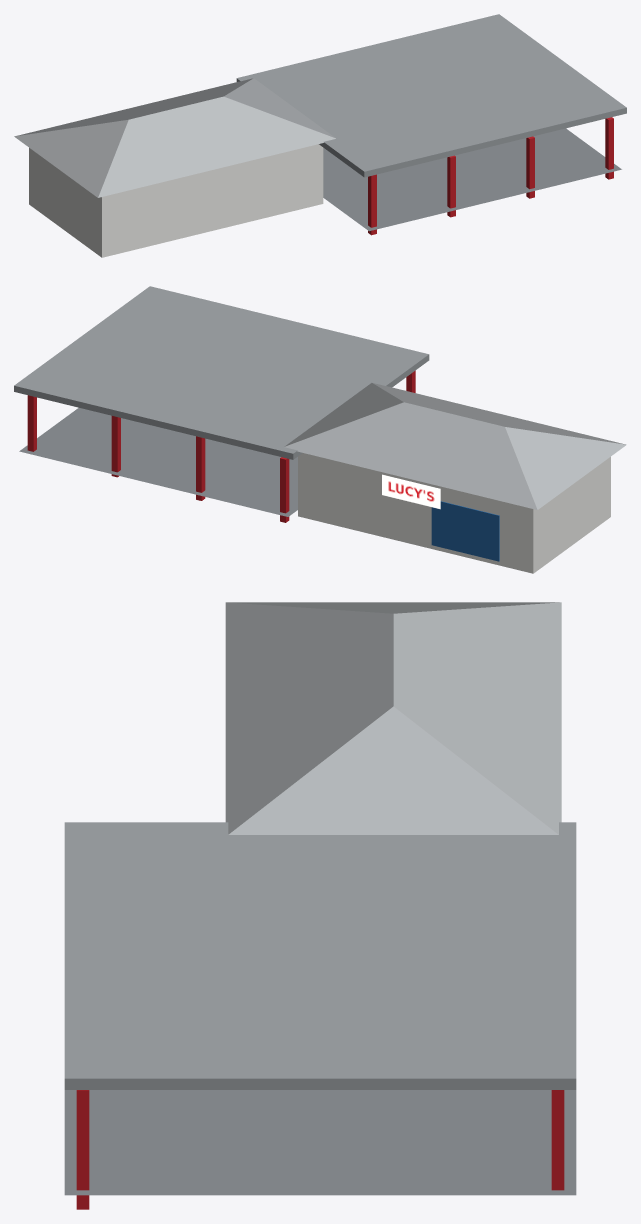
File: lucys.glb
3 renders of one model, top to bottom at view 1: azimuth 30°, elevation 25°; view 2: azimuth 150°, elevation 25°; view 3: azimuth 270°, elevation 25°, orthographic. The views are drawn at different scales.
Visible parts, largest first — view 1: lucys_lod0; view 2: lucys_lod0; view 3: lucys_lod0.
Boxes of the visible parts, x1=… form: lucys_lod0: x1=14, y1=14, x2=626, y2=257; lucys_lod0: x1=14, y1=286, x2=626, y2=573; lucys_lod0: x1=64, y1=602, x2=576, y2=1209.
Size of what is drawn, in the model's own units: 30.9 by 6.02 by 14.
8 materials, 2 textured.
